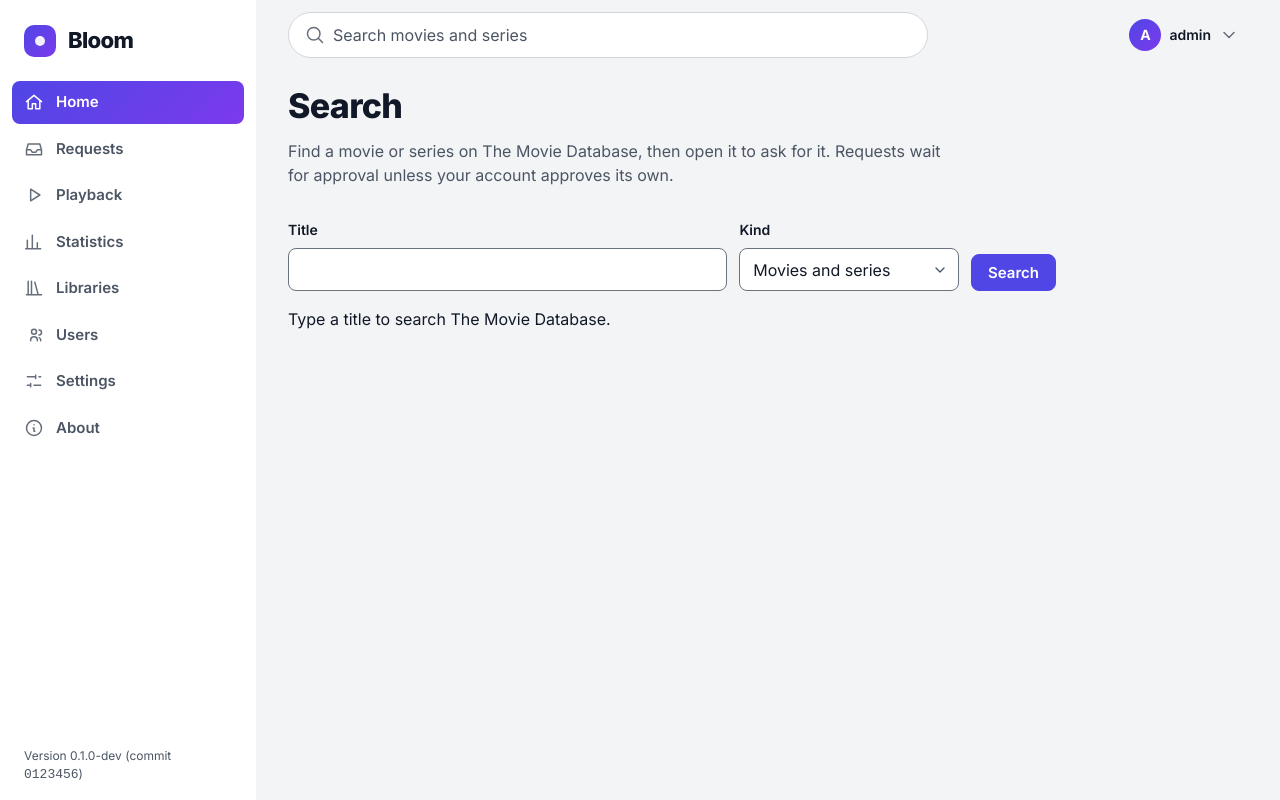
Test: explains a missing TMDB key and a failing provider
Type "unconfigured" into the search field labelled "Search movies and series". click: {"x": 622, "y": 35}
box: [333,21,911,49]
Then press Enter
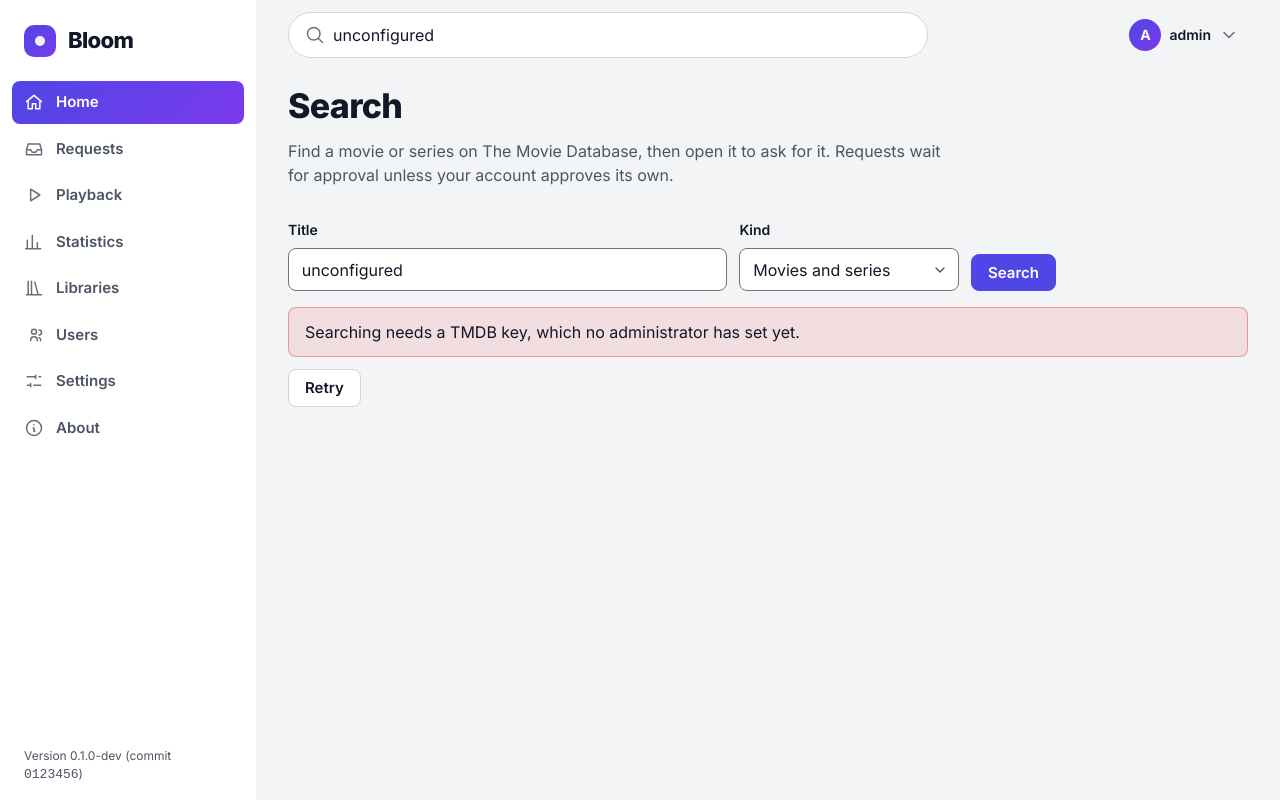
Expected: the message shows "Searching needs a TMDB key", [305,322,800,342]
Replace the text in the search field named "Search movies and series" with "broken". click: {"x": 622, "y": 35}
box: [333,21,911,49]
Then press Enter
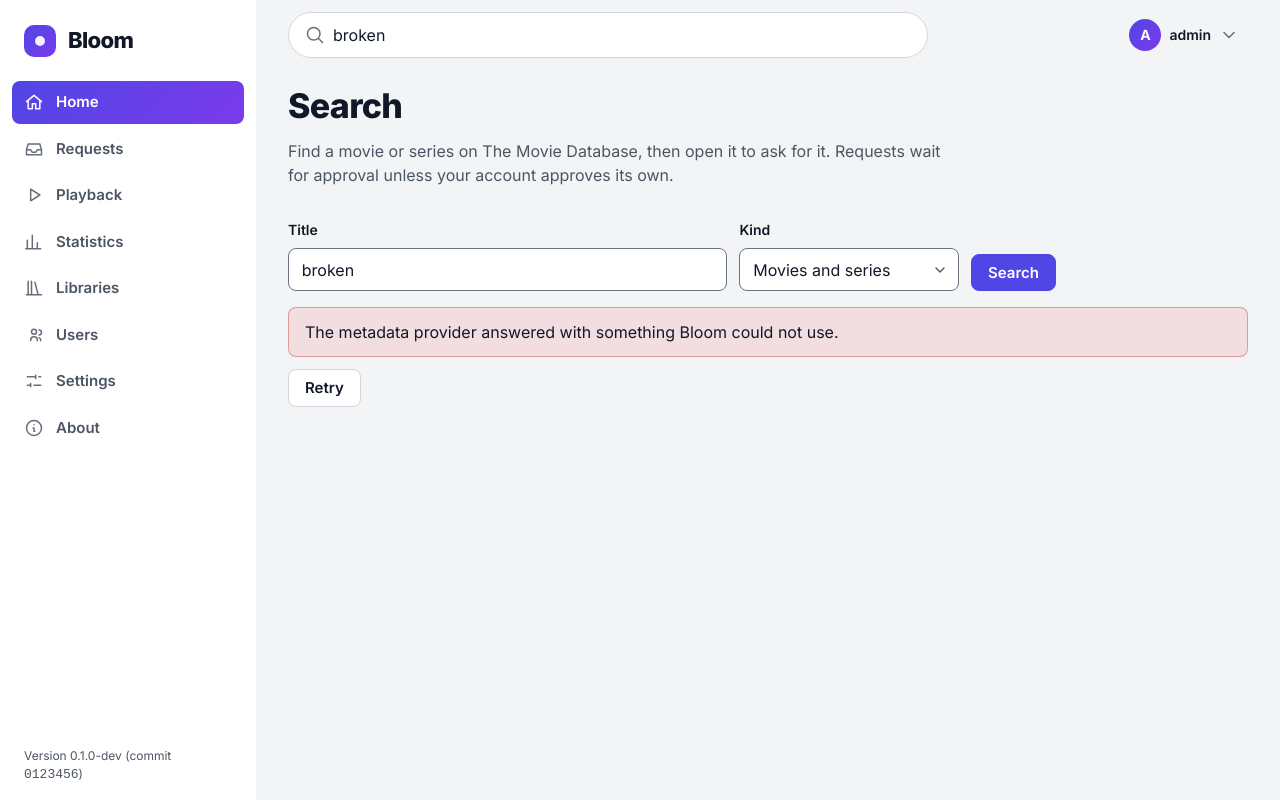
Expected: the message reads "The metadata provider answered with something Bloom could not use.", [305,322,838,342]
